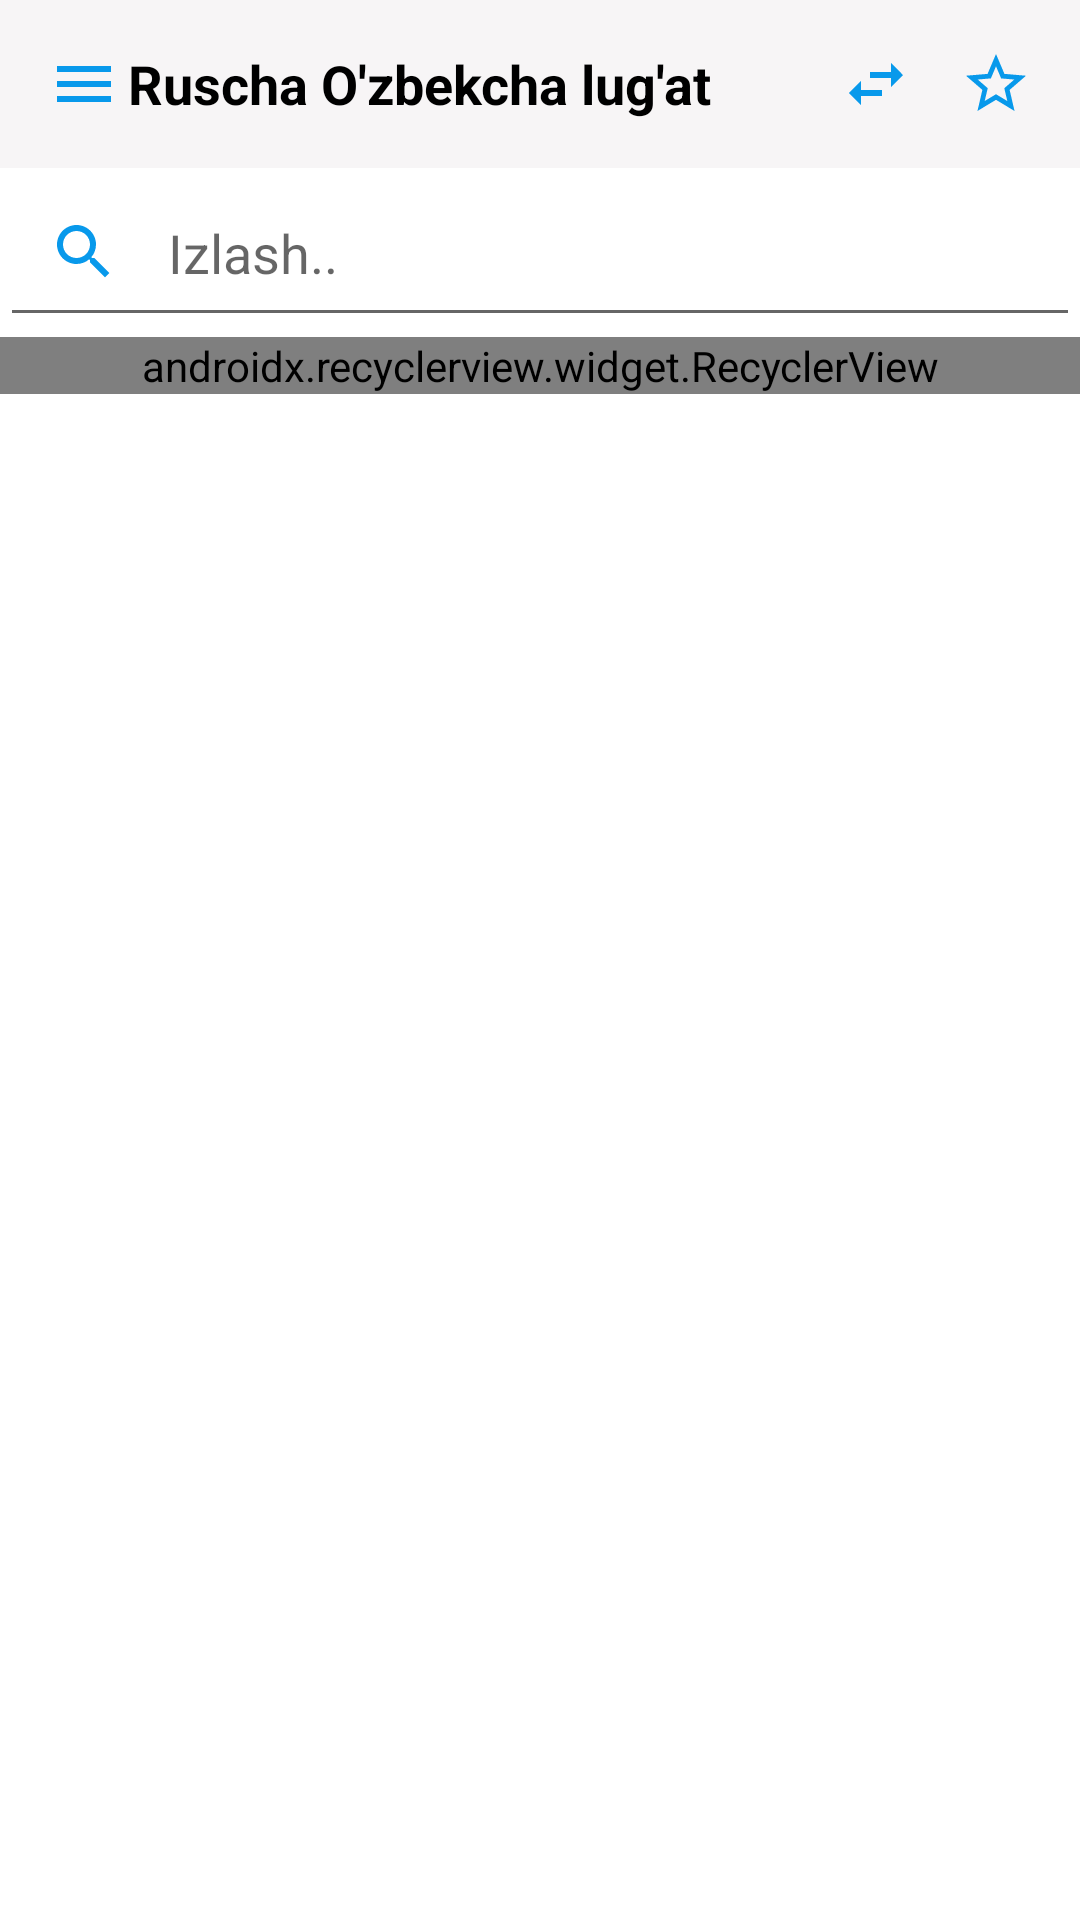

Screen size 1080 x 1920. Icon name, then its box in pixels as [x1,y1,x2,y2]:
menu: [57,66,162,105]
star border: [966,54,1026,111]
swap horiz: [849,63,903,105]
